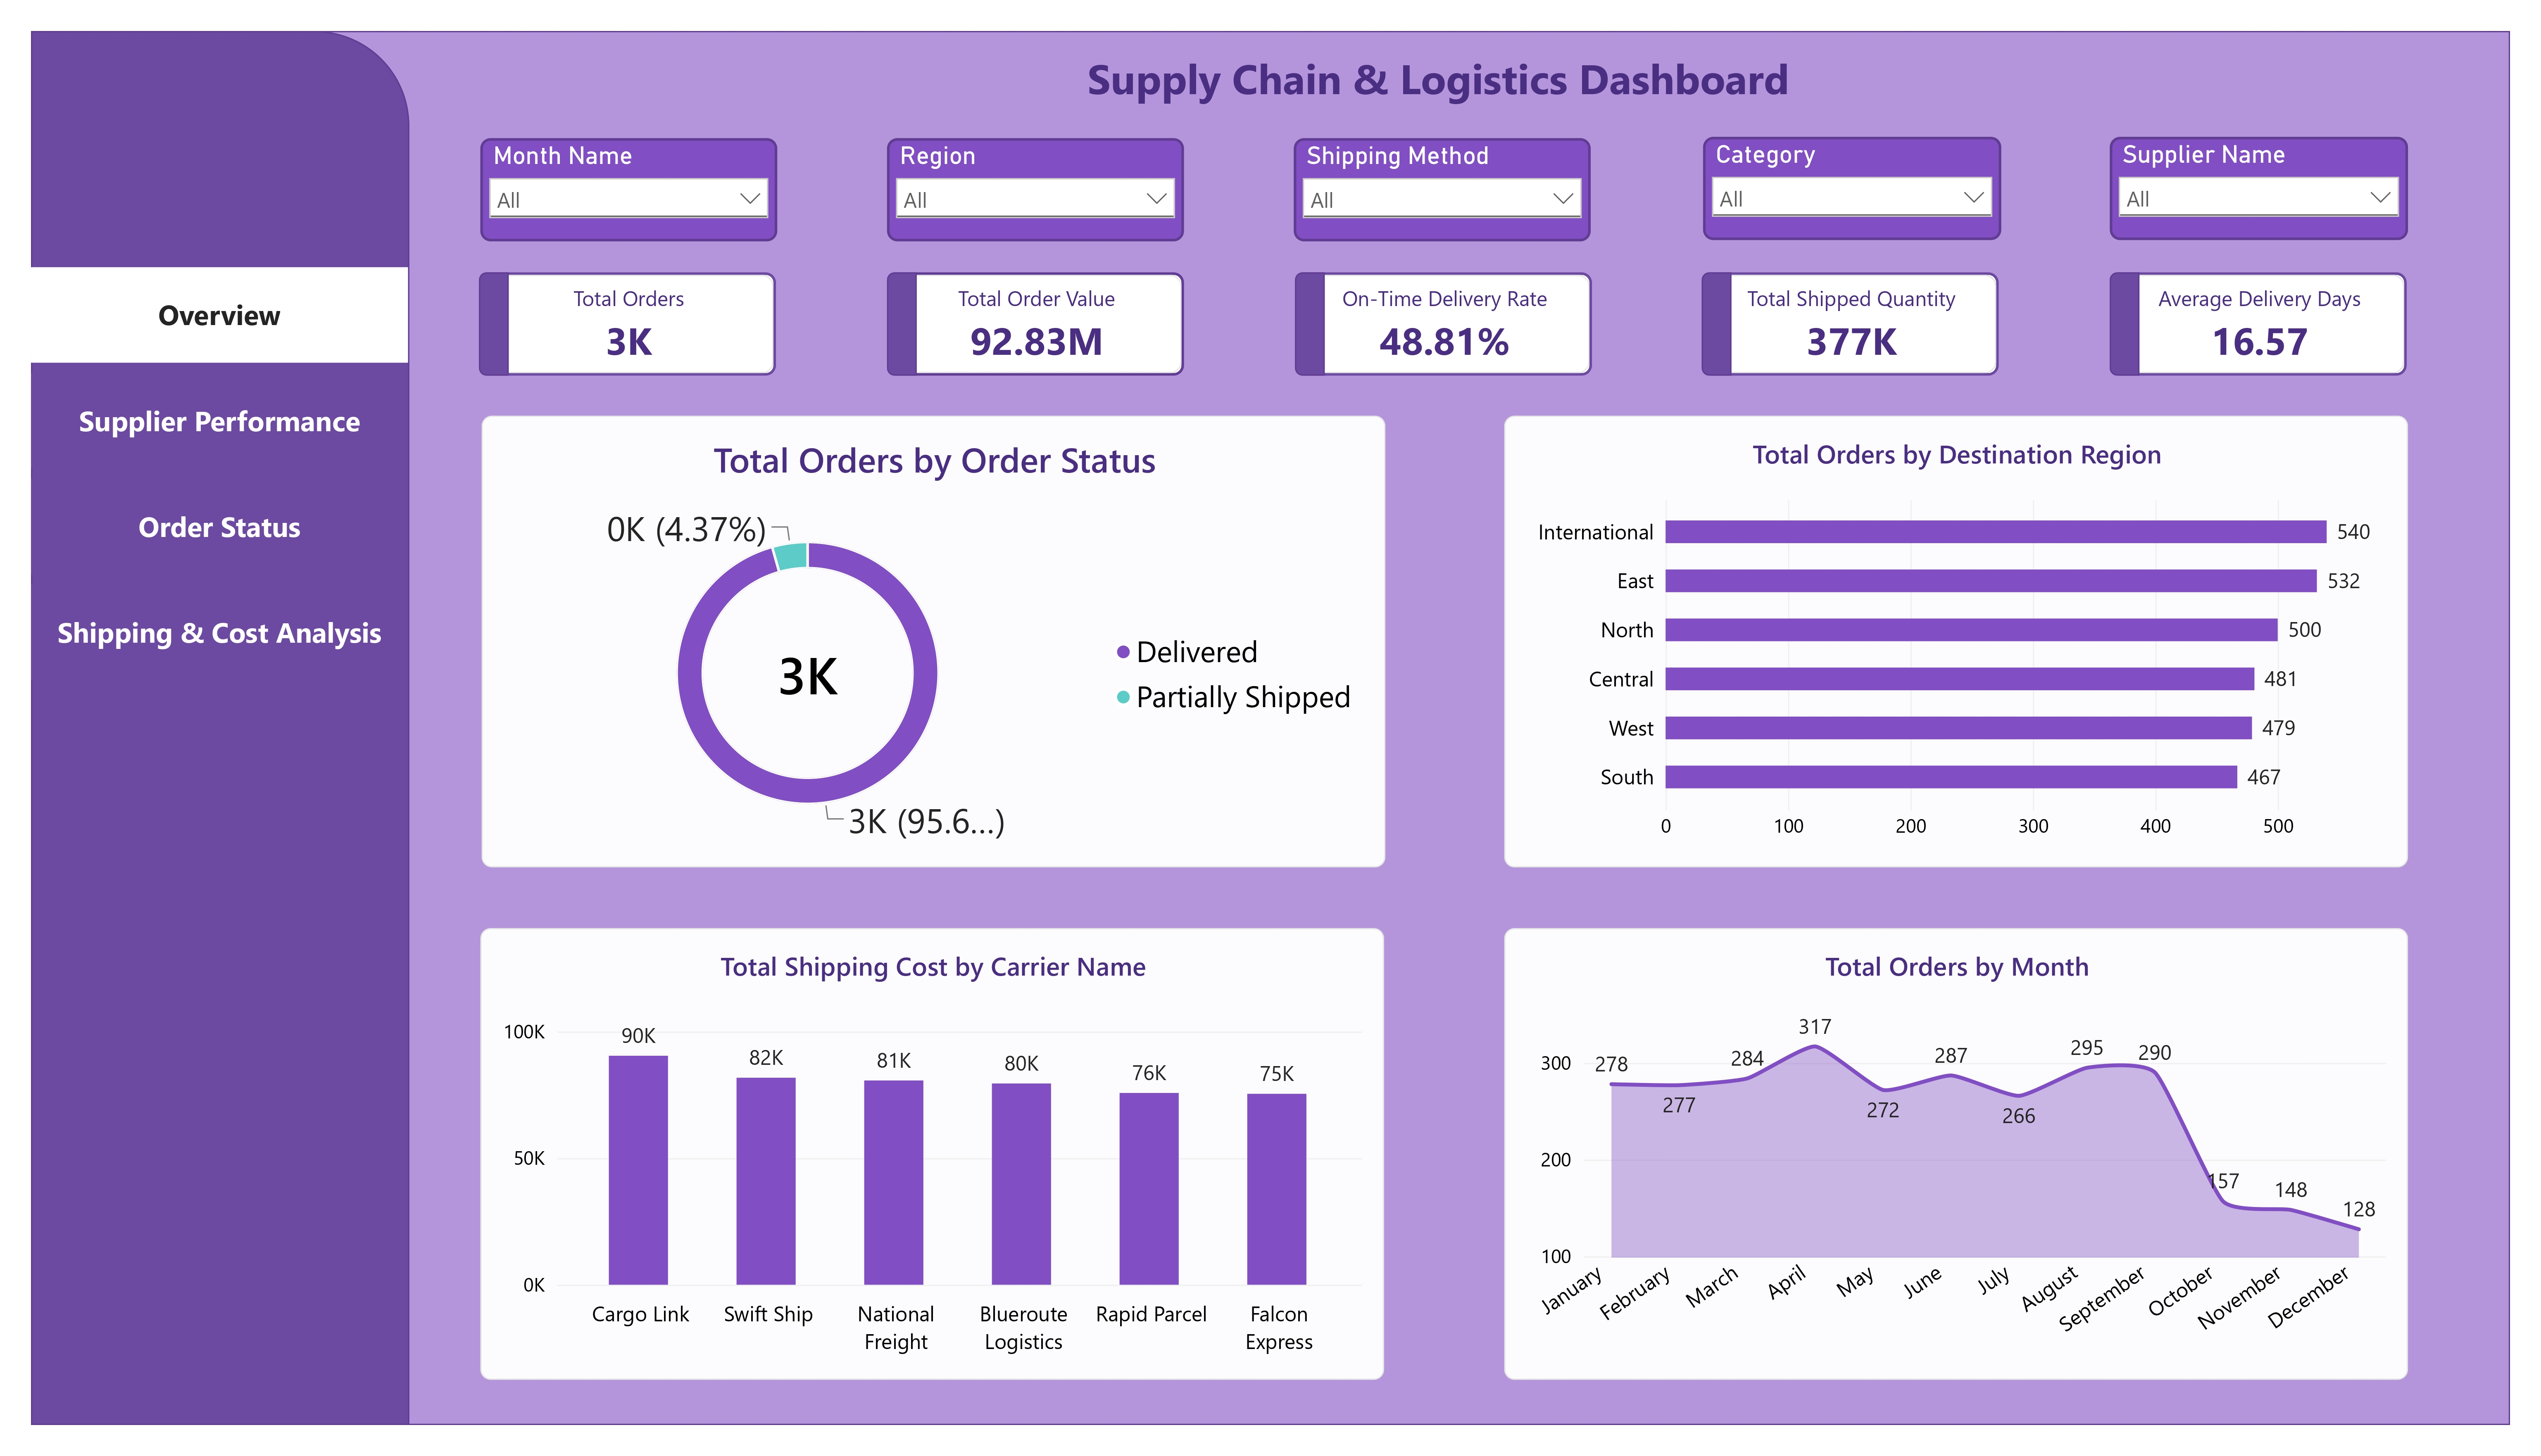

The dashboard page shown, as its layout file describes it:
{"tool":"powerbi","page":{"name":"Overview","canvas":[1920,1080],"ordinal":0},"visuals":[{"type":"shape","box":[0,0,1920,1080],"z":0},{"type":"shape","box":[0,0,292.5,1080],"z":1000},{"type":"cardVisual","fields":{"Data":["Orders.Total Orders"]},"box":[347.1,186.7,230,80],"z":1000,"group":"g1"},{"type":"textbox","box":[750,14,680,50],"z":2000},{"type":"pageNavigator","box":[0,182.5,292.5,320],"z":3000},{"type":"group","id":"g1","title":"Group 2","box":[347.1,186.7,230,80],"z":4000},{"type":"cardVisual","fields":{"Data":["Orders.Total Order Value"]},"box":[662.9,187.1,230,80],"z":4000,"group":"g2"},{"type":"group","id":"g2","title":"Group 3","box":[662.9,187.1,230,80],"z":5000},{"type":"cardVisual","fields":{"Data":["Orders.On-Time Delivery Rate"]},"box":[978.6,187.1,230,80],"z":5000,"group":"g3"},{"type":"group","id":"g3","title":"Group 4","box":[978.6,187.1,230,80],"z":6000},{"type":"cardVisual","fields":{"Data":["Orders.Total Shipped Quantity"]},"box":[1294.3,187.1,230,80],"z":6000,"group":"g4"},{"type":"group","id":"g4","title":"Group 5","box":[1294.3,187.1,230,80],"z":7000},{"type":"cardVisual","fields":{"Data":["Orders.Average Delivery Days"]},"box":[1610,187.1,230,80],"z":7000,"group":"g5"},{"type":"group","id":"g5","title":"Group 6","box":[1610,187.1,230,80],"z":8000},{"type":"slicer","fields":{"Values":["Orders.Order Date.Variation.Date Hierarchy.Month"]},"box":[347.5,82.5,230,80],"z":9000},{"type":"slicer","fields":{"Values":["Orders.Destination Region"]},"box":[662.5,82.5,230,80],"z":10000},{"type":"shape","box":[347.1,186.7,22.9,80],"z":10000,"group":"g1"},{"type":"shape","box":[662.9,187.5,22.9,80],"z":11000,"group":"g2"},{"type":"donutChart","title":"Total Orders by Order Status","fields":{"Category":["Orders.Order Status"],"Y":["Orders.Total Orders"]},"box":[348.1,297.5,700,350],"z":11000,"group":"g6"},{"type":"shape","box":[978.6,187.5,22.9,80],"z":12000,"group":"g3"},{"type":"clusteredBarChart","fields":{"Category":["Orders.Destination Region"],"Y":["Orders.Total Orders"]},"box":[1140,297.5,700,350],"z":12000,"group":"g6"},{"type":"slicer","fields":{"Values":["Orders.Shipping Method"]},"box":[977.5,82.5,230,80],"z":13000},{"type":"shape","box":[1294.7,187.5,22.9,80],"z":13000,"group":"g4"},{"type":"shape","box":[1610,187.5,22.9,80],"z":14000,"group":"g5"},{"type":"clusteredColumnChart","fields":{"Category":["Carriers.Carrier Name"],"Y":["Orders.Total Shipping Cost"]},"box":[347.5,694.9,700,350],"z":14000,"group":"g6"},{"type":"slicer","fields":{"Values":["Products.Category"]},"box":[1294.5,82.1,231.1,79.5],"z":15000},{"type":"slicer","fields":{"Values":["Suppliers.Supplier Name"]},"box":[1610.1,82.1,231.1,79.5],"z":16000},{"type":"lineChart","fields":{"Category":["Orders.Order Date.Variation.Date Hierarchy.Year","Orders.Order Date.Variation.Date Hierarchy.Month"],"Y":["Orders.Total Orders"]},"box":[1140,694.9,700,350],"z":17000,"group":"g6"},{"type":"group","id":"g6","title":"Group 1","box":[347.5,297.5,1492.5,747.5],"z":17001}]}

Visuals, with their boxes on the page's 1920x1080 design canvas (x1, y1, x2, y2). These are canvas units, not pixel positions in the 2541x1456 screenshot, which may show the page scaled, cropped or inside an application window:
shape: [x1=0, y1=0, x2=1920, y2=1080]
shape: [x1=0, y1=0, x2=292, y2=1080]
cardVisual - Orders.Total Orders: [x1=347, y1=187, x2=577, y2=267]
textbox: [x1=750, y1=14, x2=1430, y2=64]
pageNavigator: [x1=0, y1=182, x2=292, y2=502]
"Group 2" group: [x1=347, y1=187, x2=577, y2=267]
cardVisual - Orders.Total Order Value: [x1=663, y1=187, x2=893, y2=267]
"Group 3" group: [x1=663, y1=187, x2=893, y2=267]
cardVisual - Orders.On-Time Delivery Rate: [x1=979, y1=187, x2=1209, y2=267]
"Group 4" group: [x1=979, y1=187, x2=1209, y2=267]
cardVisual - Orders.Total Shipped Quantity: [x1=1294, y1=187, x2=1524, y2=267]
"Group 5" group: [x1=1294, y1=187, x2=1524, y2=267]
cardVisual - Orders.Average Delivery Days: [x1=1610, y1=187, x2=1840, y2=267]
"Group 6" group: [x1=1610, y1=187, x2=1840, y2=267]
slicer - Orders.Order Date.Variation.Date Hierarchy.Month: [x1=348, y1=82, x2=578, y2=162]
slicer - Orders.Destination Region: [x1=662, y1=82, x2=892, y2=162]
shape: [x1=347, y1=187, x2=370, y2=267]
shape: [x1=663, y1=188, x2=686, y2=268]
"Total Orders by Order Status" donutChart: [x1=348, y1=298, x2=1048, y2=648]
shape: [x1=979, y1=188, x2=1002, y2=268]
clusteredBarChart - Orders.Destination Region x Orders.Total Orders: [x1=1140, y1=298, x2=1840, y2=648]
slicer - Orders.Shipping Method: [x1=978, y1=82, x2=1208, y2=162]
shape: [x1=1295, y1=188, x2=1318, y2=268]
shape: [x1=1610, y1=188, x2=1633, y2=268]
clusteredColumnChart - Carriers.Carrier Name x Orders.Total Shipping Cost: [x1=348, y1=695, x2=1048, y2=1045]
slicer - Products.Category: [x1=1294, y1=82, x2=1526, y2=162]
slicer - Suppliers.Supplier Name: [x1=1610, y1=82, x2=1841, y2=162]
lineChart - Orders.Order Date.Variation.Date Hierarchy.Year x Orders.Order Date.Variation.Date Hierarchy.Month: [x1=1140, y1=695, x2=1840, y2=1045]
"Group 1" group: [x1=348, y1=298, x2=1840, y2=1045]
